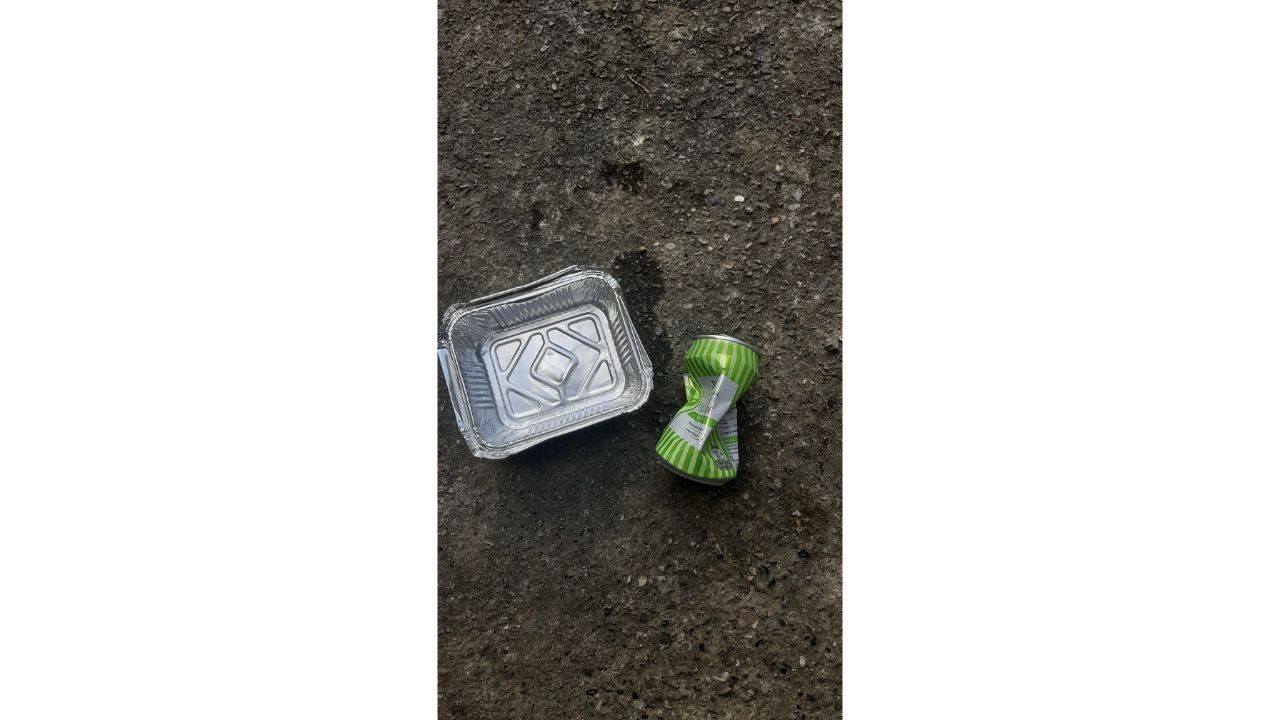Can: (649, 327, 770, 492)
